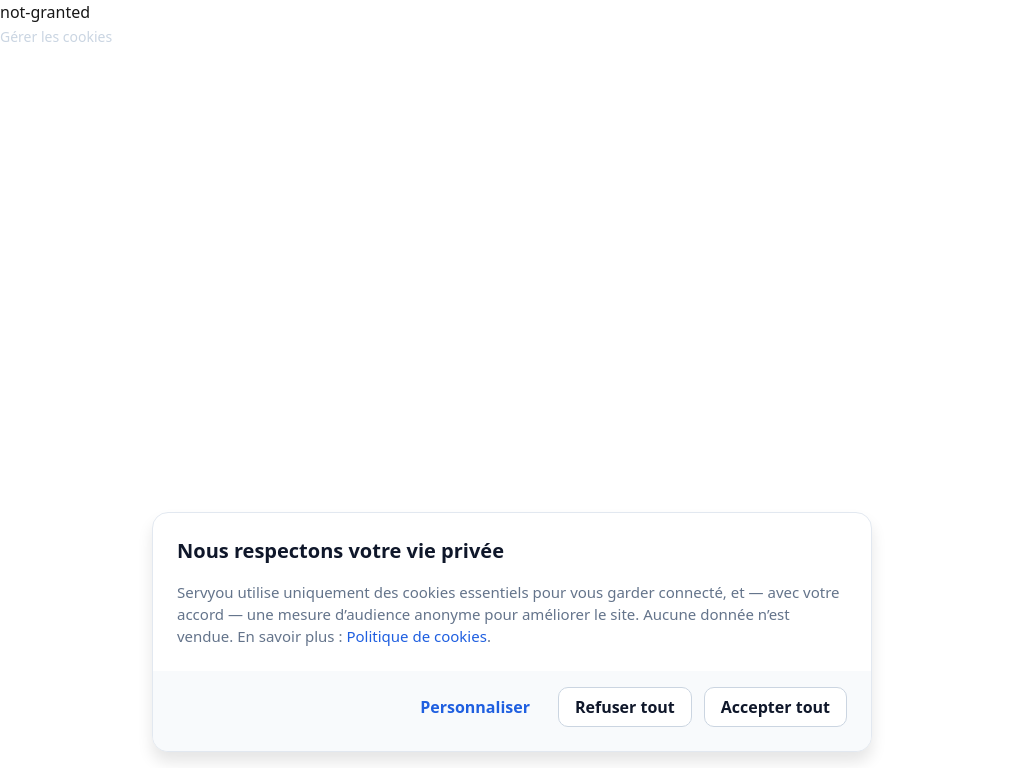
Scenario: the settings modal › Escape and ✕ close it WITHOUT saving, and the banner comes back while there is still no choice
Click the button "Personnaliser" at (475,707), box [404,687,546,727]
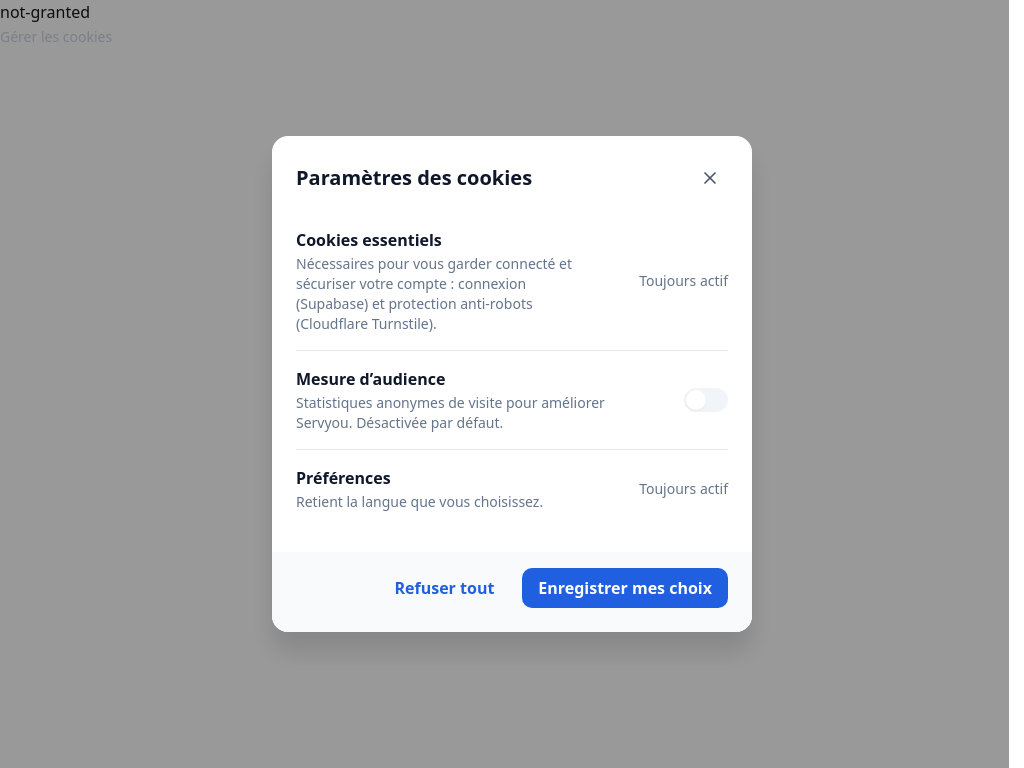
Press Escape
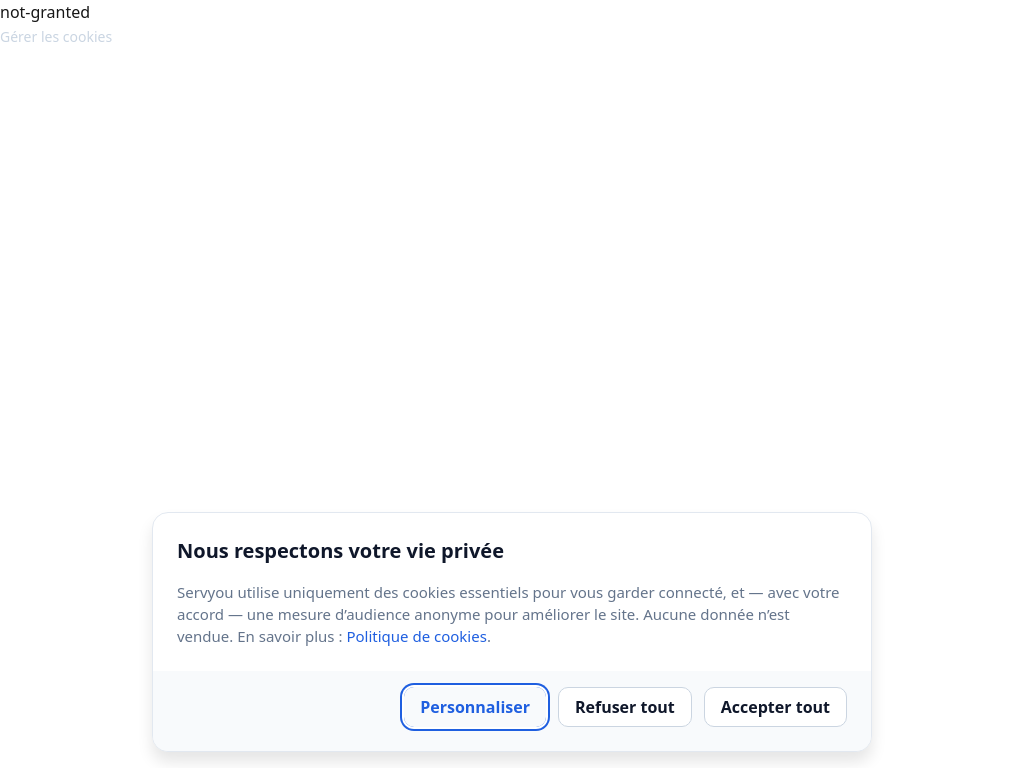
Check: the dialog is gone
Check: the element "Nous respectons votre vie privée" is shown, box [152,512,872,752]
Click the button "Personnaliser" at (475,707), box [404,687,546,727]
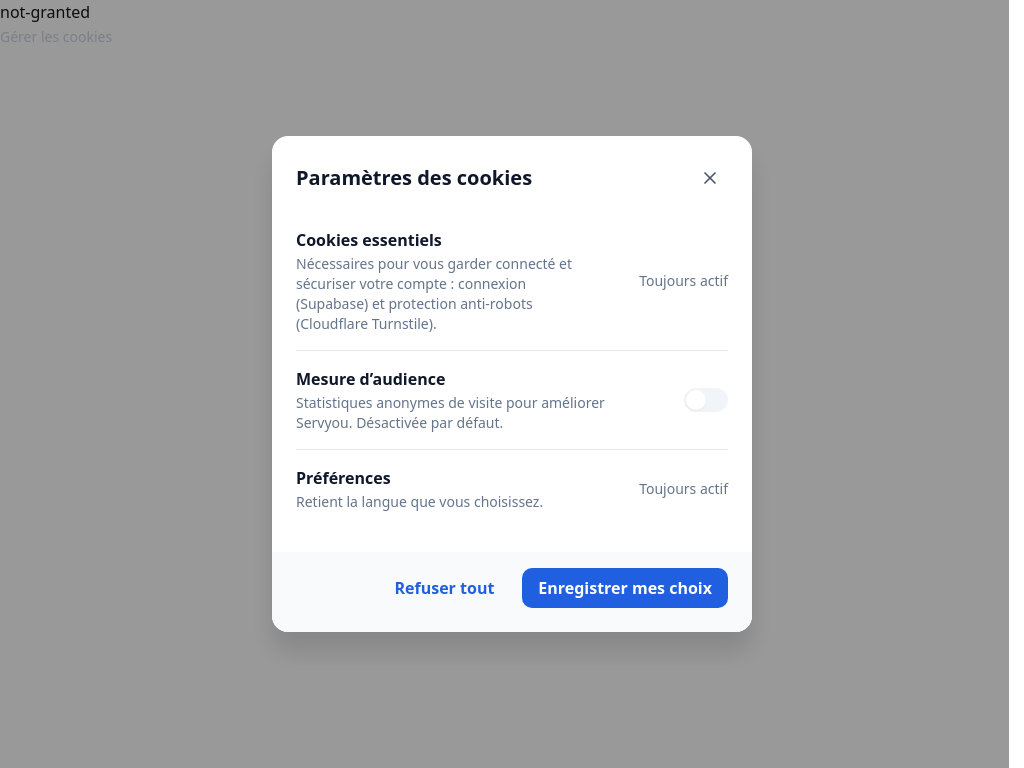
Click the button named "Fermer" at (710,178), box [692,160,728,196]
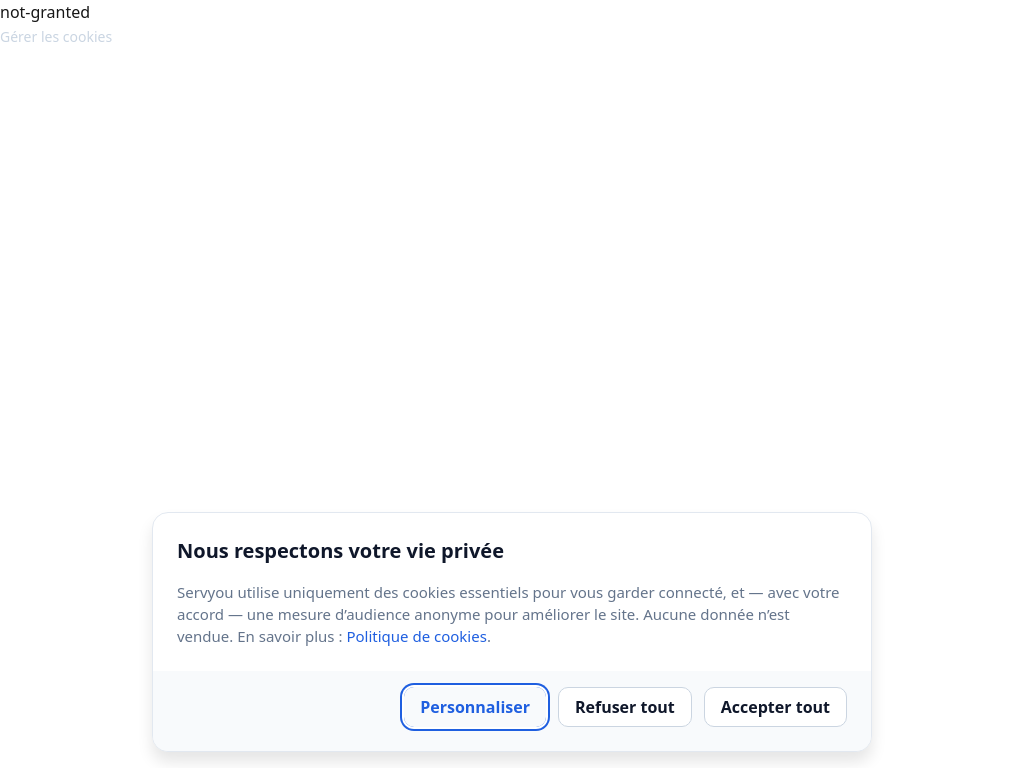
Check: the dialog is gone
